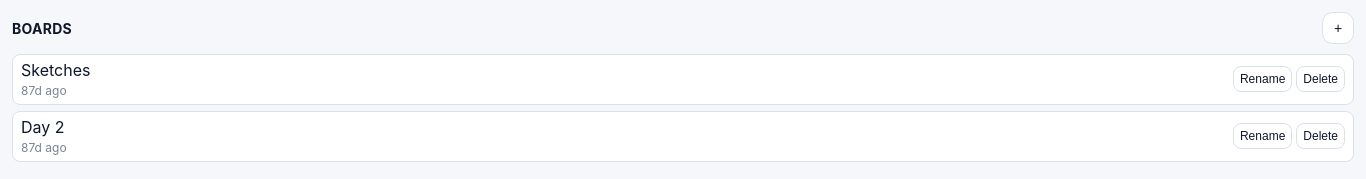
Test case: BoardList › cancels armed board delete when a workspace keyboard shortcut switches workspaces
Expected: the list item "Day 2 87d ago Rename Delete" is shown, [12,111,1354,162]
Click the 2nd button "Delete": (1321, 136) [1296,124,1345,150]
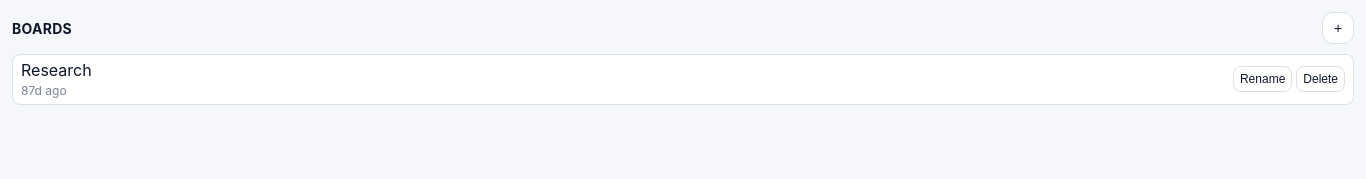
Result: the list item "Research 87d ago Rename Delete" is shown at [12,54,1354,105]
Result: the button with class "board-list__item-button" is shown at [21,61,1227,80]
